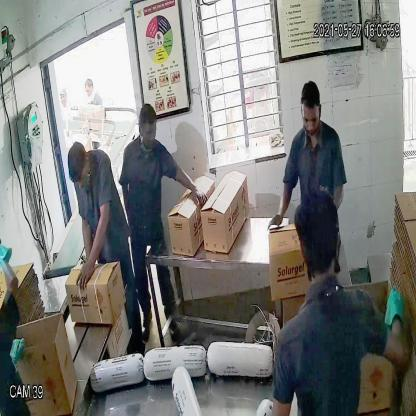no_goggles: (299, 106, 322, 132)
